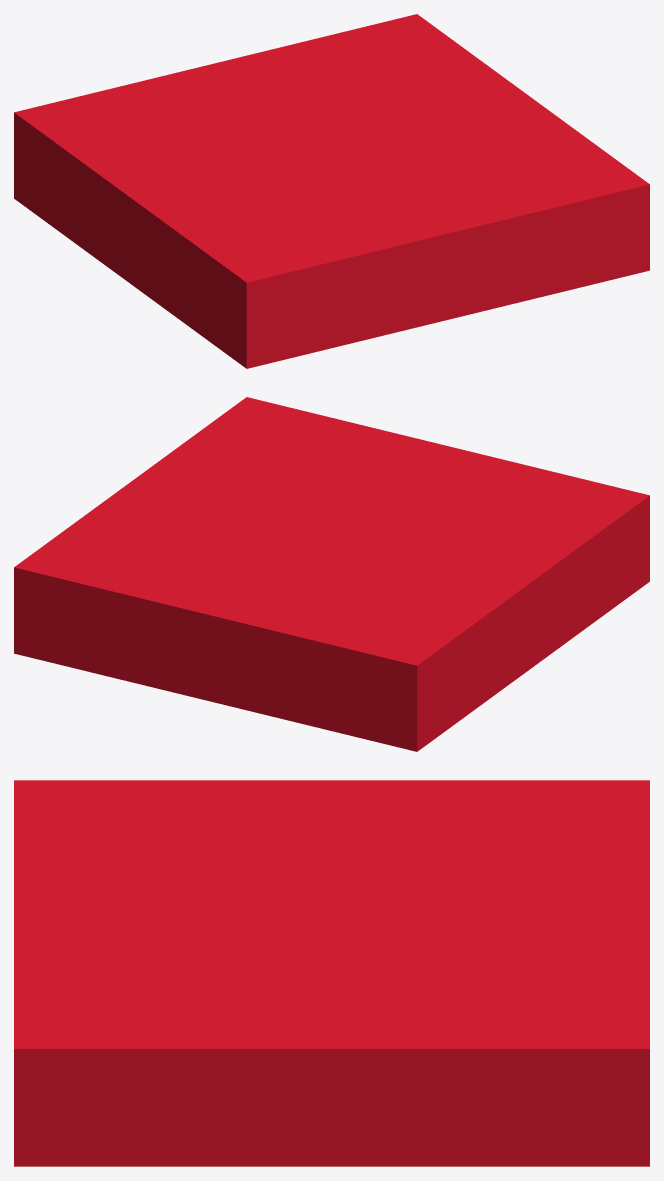
File: table_12.glb
3 renders of one model, top to bottom at view 1: azimuth 30°, elevation 25°; view 2: azimuth 150°, elevation 25°; view 3: azimuth 270°, elevation 25°, orthographic. The views are drawn at different scales.
Parts seen in each view (by area): view 1: table_metal_001.001; view 2: table_metal_001.001; view 3: table_metal_001.001.
Part boxes in pixels (x1,y1,x2,y2): table_metal_001.001: [14, 14, 649, 368]; table_metal_001.001: [14, 397, 649, 751]; table_metal_001.001: [14, 780, 649, 1166].
Size of the model in its own units: 0.64 by 0.156 by 0.64.
